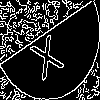X: (25, 25, 65, 82)
